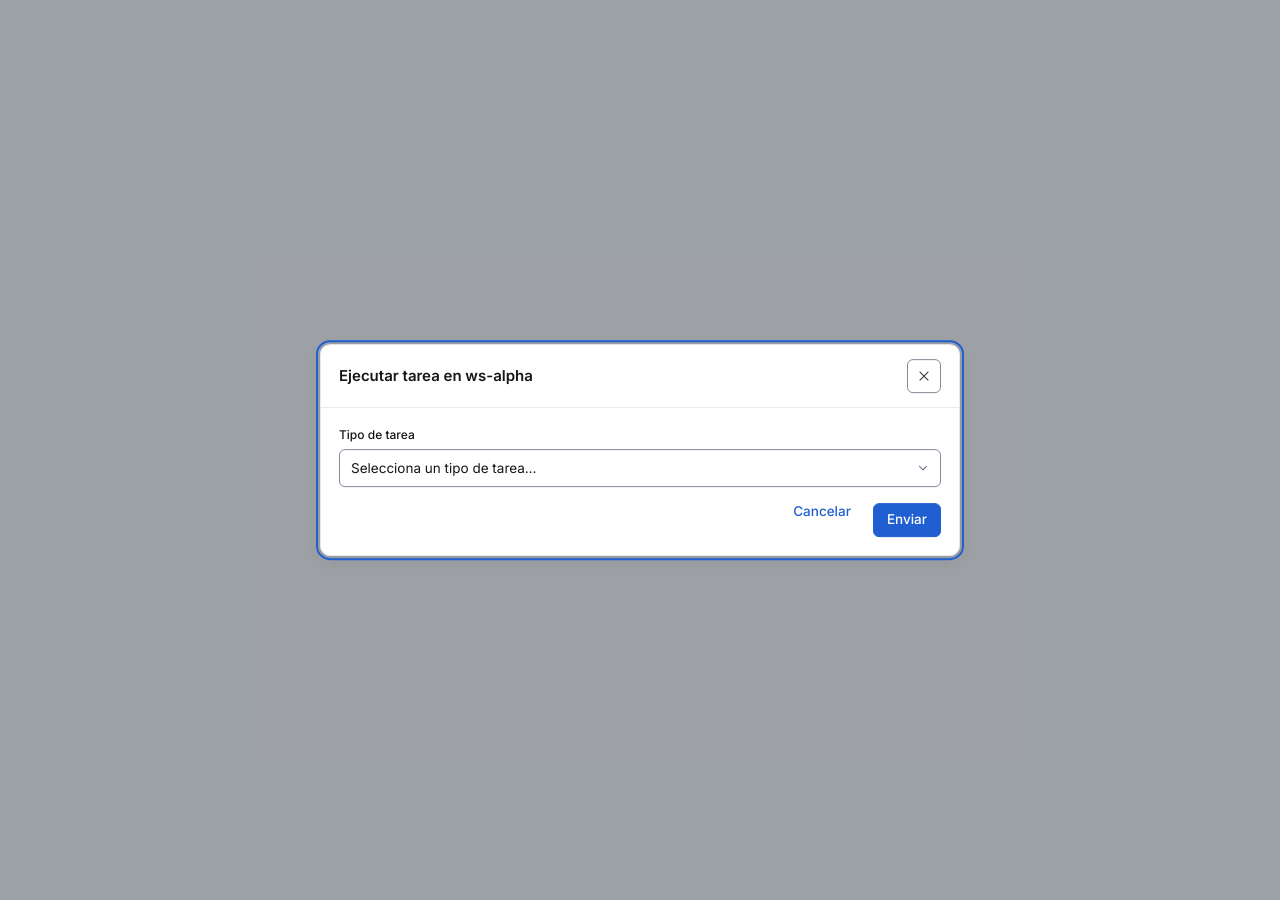
it: the dispatch dialog in Spanish › words the form, the type hint, the required-field complaint and the confirmation
Click the button "Enviar" at (907, 520), box 873,503 -> 941,537
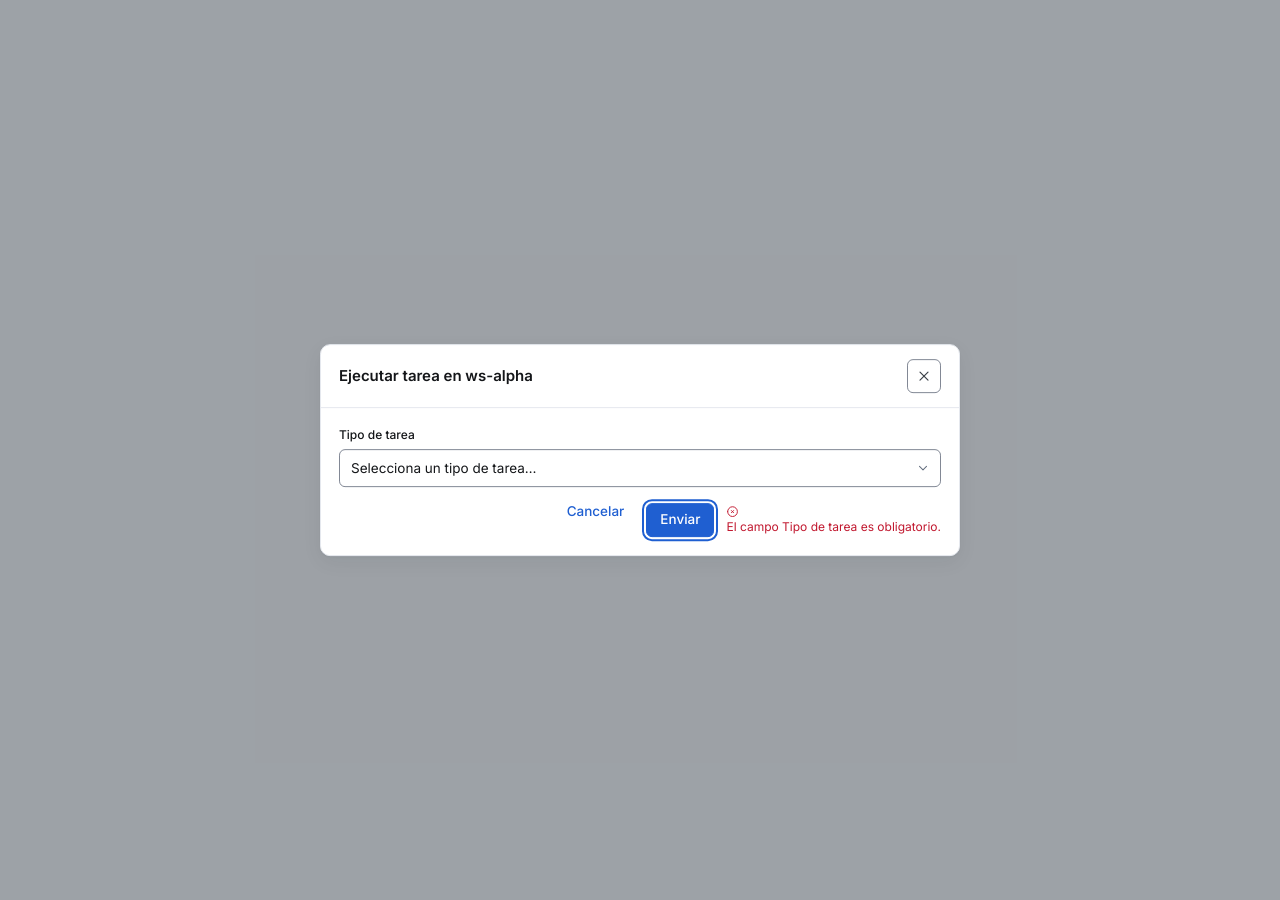
Expected: the message shows "El campo Tipo de tarea es obligatorio", 726,519 -> 938,534
Select "Recopilar inventario" in the dropdown labelled "Tipo de tarea" at (640, 468), box 339,449 -> 941,487
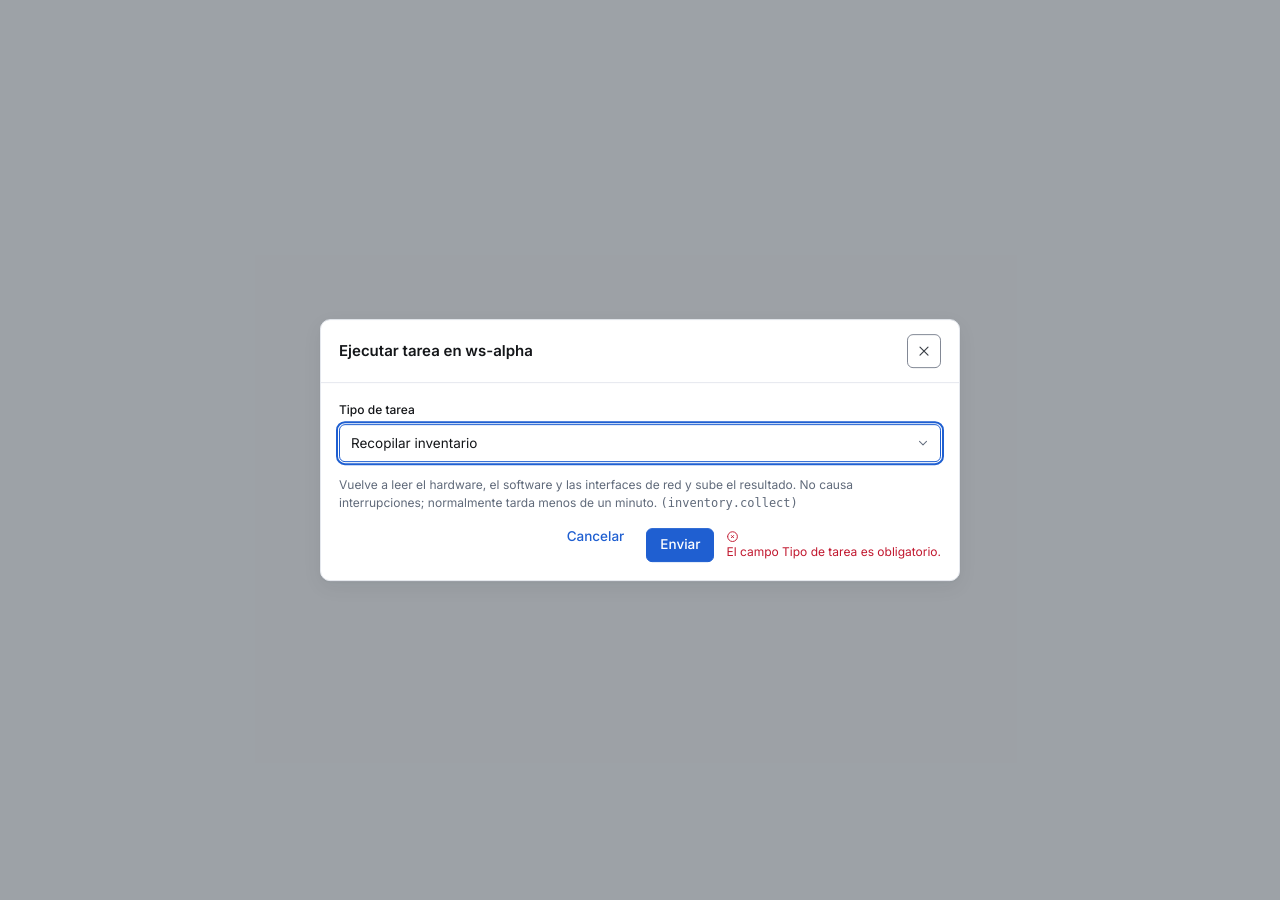
Expected: the text "Vuelve a leer el hardware, el software y las interfaces de red" is shown, 339,477 -> 853,510
Expected: the text "(inventory.collect)" is shown, 660,496 -> 798,510
Click the button "Enviar" at (680, 545), box 646,528 -> 714,562
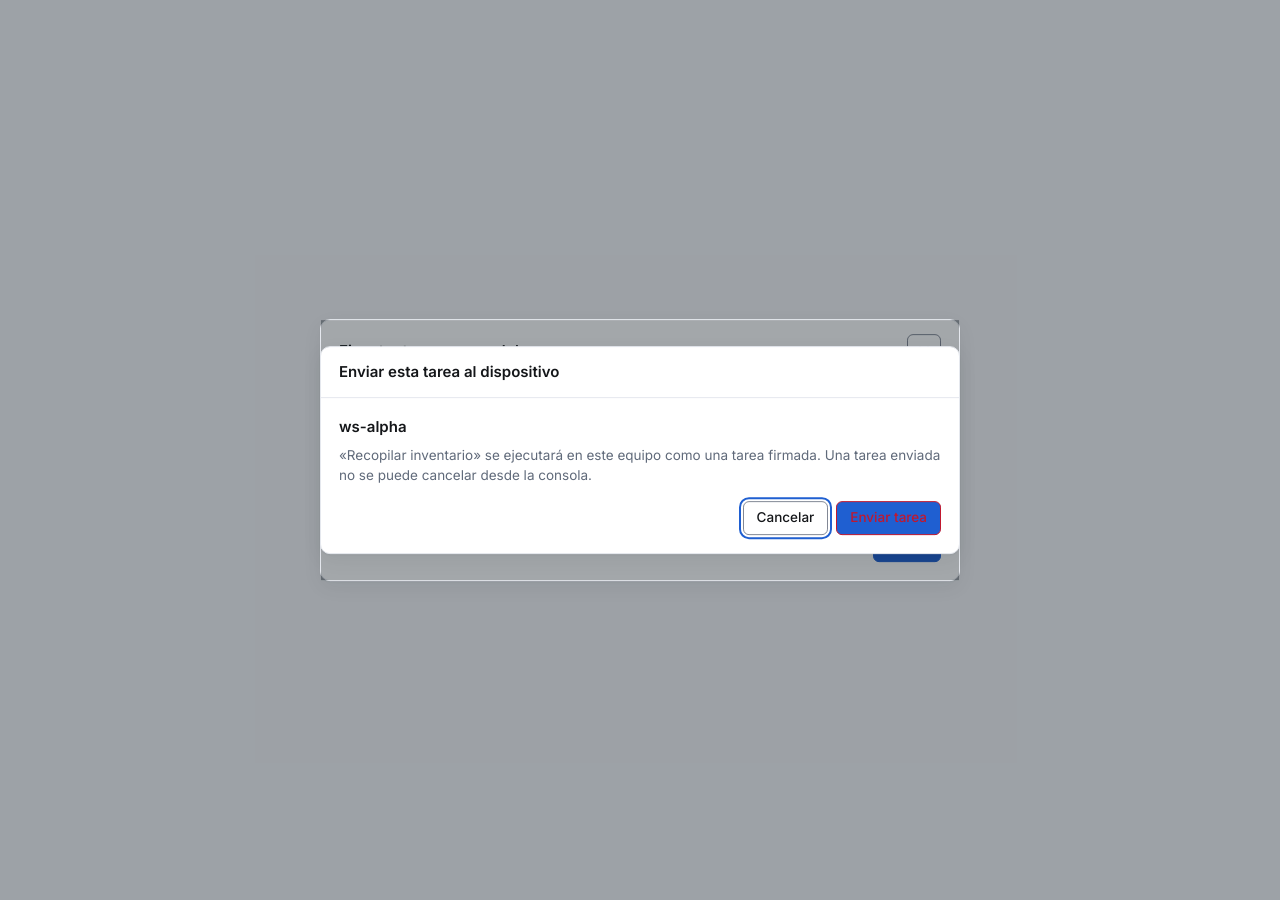
Expected: the text "Una tarea enviada no se puede cancelar desde la consola." is shown, 339,447 -> 940,483
Click the button "Enviar tarea" at (889, 518), box 836,502 -> 941,535
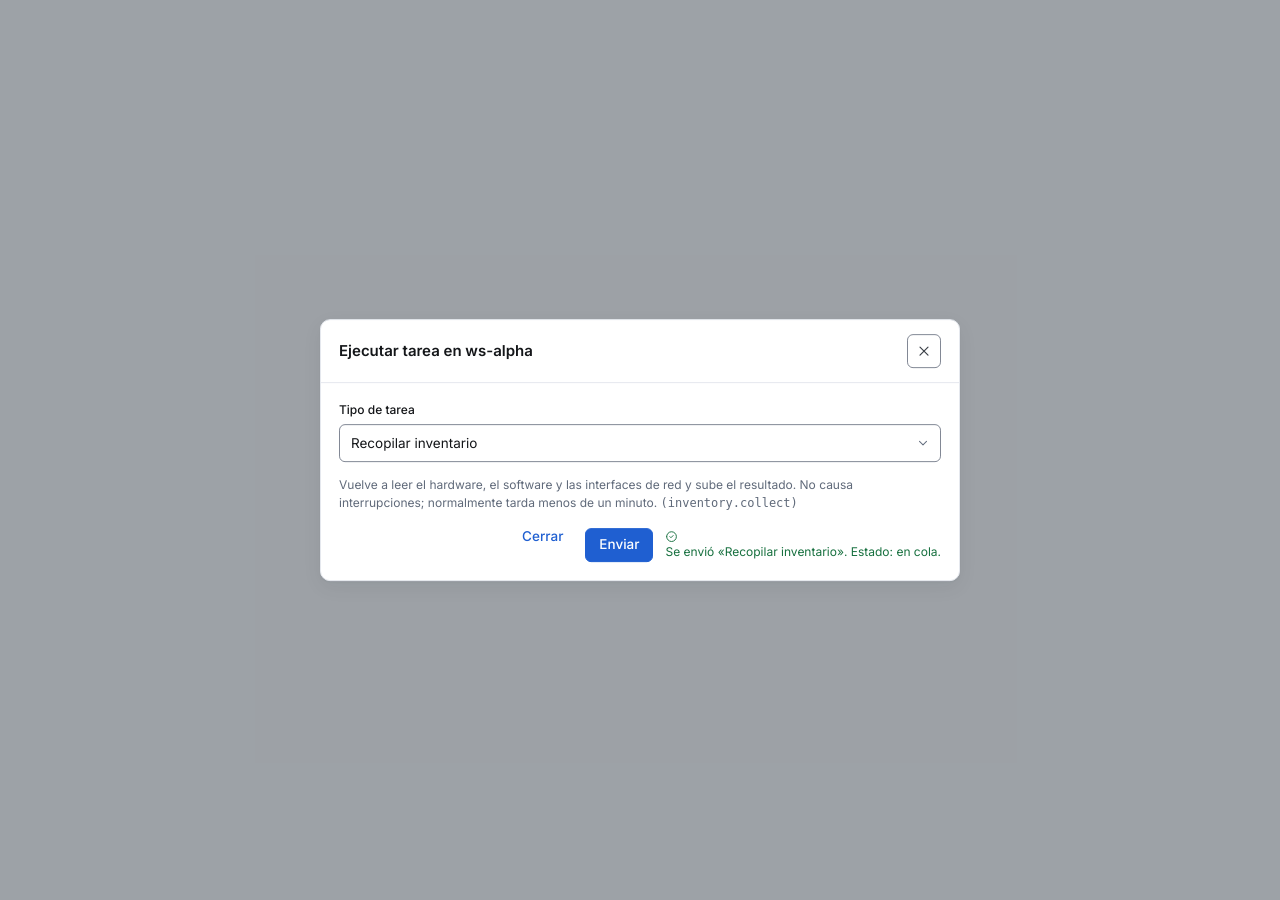
Expected: the text "Se envió «Recopilar inventario». Estado: en cola." is shown, 666,530 -> 941,561
